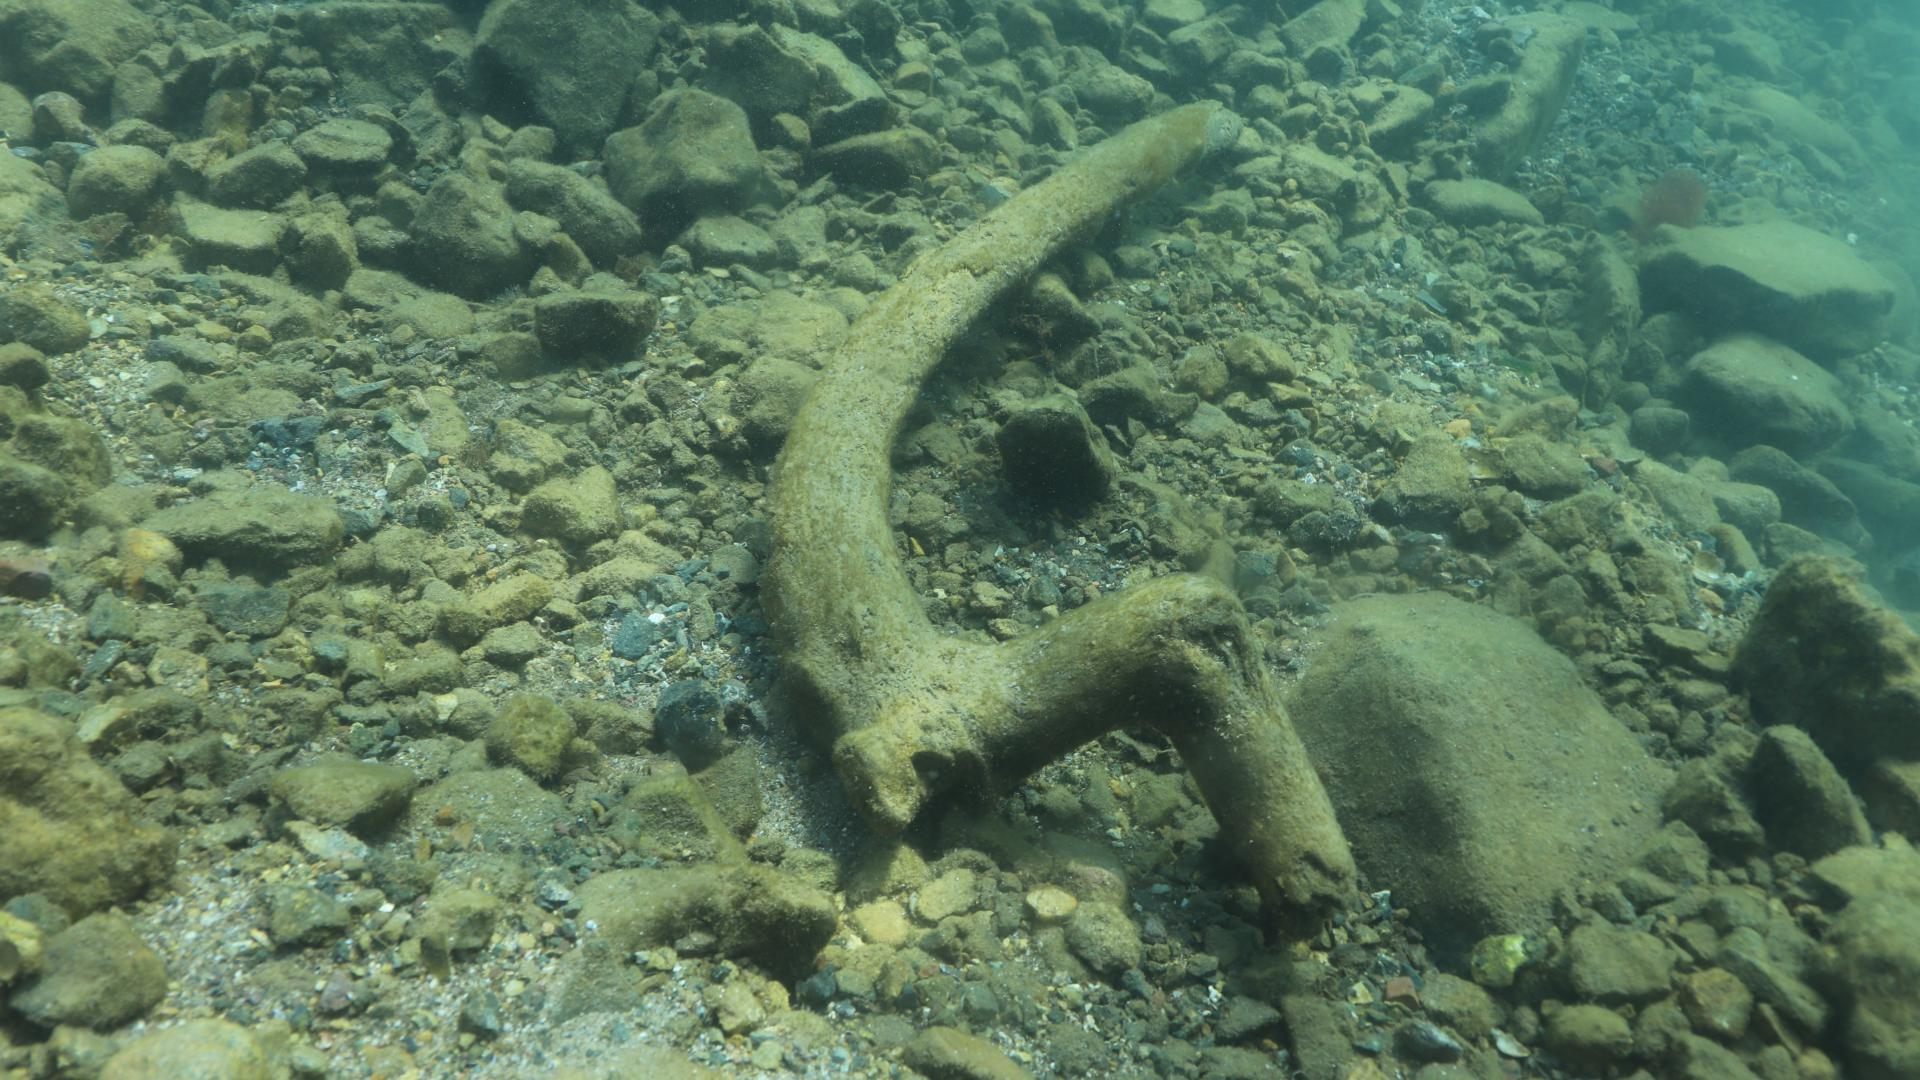wood: (753, 96, 1357, 947)
